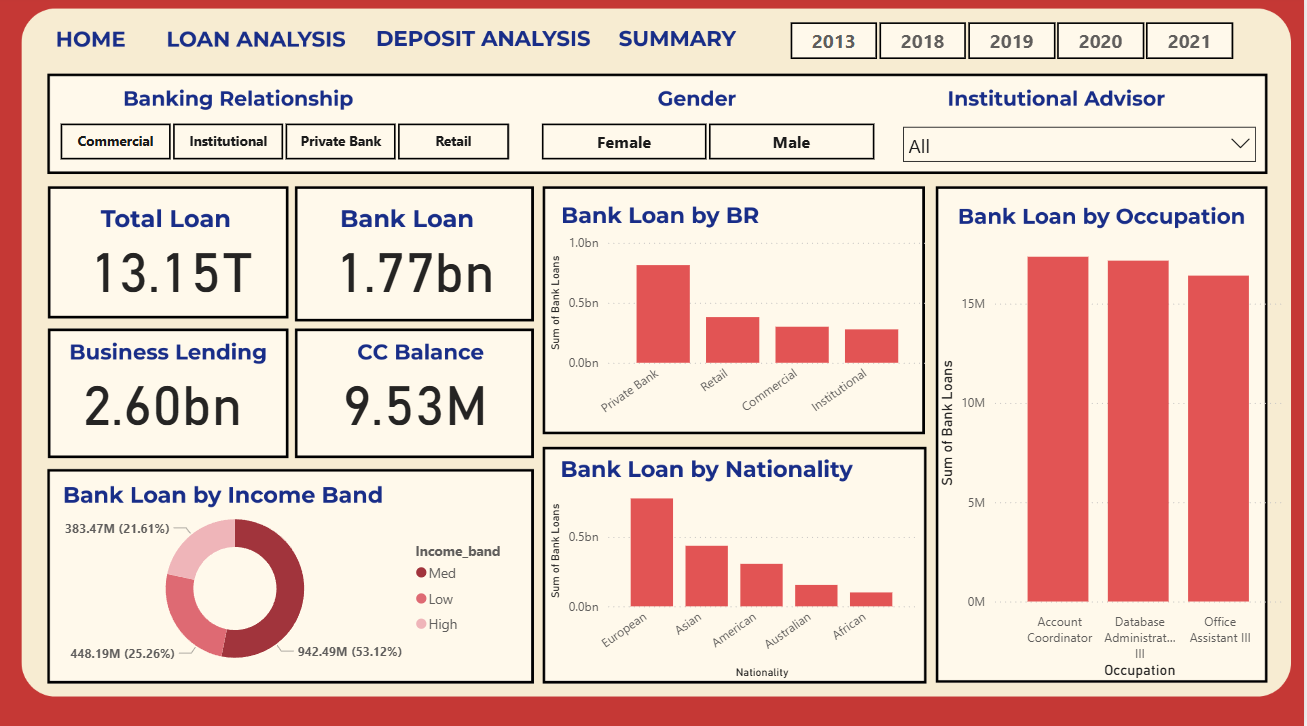

The page's visual inventory and layout, read from the dashboard file:
{"tool":"powerbi","page":{"name":"Loan Analysis","canvas":[1280,720],"ordinal":1},"visuals":[{"type":"slicer","fields":{"Values":["Banking.joining year"]},"box":[749.7,19.6,484.7,49.1],"z":0},{"type":"actionButton","box":[159.3,23.5,185.2,40.7],"z":1000},{"type":"actionButton","box":[49.4,23.5,87.7,40.7],"z":2000},{"type":"actionButton","box":[361.7,23.5,230.9,40.7],"z":3000},{"type":"card","fields":{"Values":["Sum(Banking.Bank Loans)"]},"box":[308.6,211.1,196.3,108.6],"z":4000},{"type":"card","fields":{"Values":["Sum(Banking.Credit Card Balance)"]},"box":[308.6,342,196.3,108.6],"z":5000},{"type":"card","fields":{"Values":["Sum(Banking.Business Lending)"]},"box":[61.7,342,196.3,108.6],"z":6000},{"type":"card","fields":{"Values":["Sum(Banking.total loan)"]},"box":[70.4,211.1,196.3,108.6],"z":7000},{"type":"columnChart","fields":{"Category":["Banking.BRId"],"Y":["Sum(Banking.Bank Loans)"]},"box":[534.6,229.6,381.5,198.8],"z":8000},{"type":"columnChart","fields":{"Category":["Banking.Nationality"],"Y":["Sum(Banking.Bank Loans)"]},"box":[534.6,477.8,369.1,198.8],"z":9000},{"type":"columnChart","fields":{"Category":["Banking.Occupation"],"Y":["Sum(Banking.Bank Loans)"]},"box":[916,230.9,349.4,445.7],"z":10000},{"type":"slicer","fields":{"Values":["Banking.IAId"]},"box":[876.5,118.5,366.7,49.4],"z":11000},{"type":"donutChart","fields":{"Category":["Banking.Income_band"],"Y":["Sum(Banking.Bank Loans)"]},"box":[49.4,490.1,465.4,186.4],"z":12000},{"type":"actionButton","box":[606.2,24.7,119.8,40.7],"z":13000},{"type":"slicer","fields":{"Values":["Banking.BRId"]},"box":[33.3,118.5,490.1,49.4],"z":14000},{"type":"slicer","fields":{"Values":["Banking.GenderId"]},"box":[504.9,118.5,376.5,49.4],"z":15000}]}

Visuals, with their boxes in screenshot pixels (x1, y1, x2, y2), scaled from the page's 1280x720 canvas onto the 1307x726 screenshot:
slicer - Banking.joining year: region(766, 20, 1260, 69)
actionButton: region(163, 24, 352, 65)
actionButton: region(50, 24, 140, 65)
actionButton: region(369, 24, 605, 65)
card - Sum(Banking.Bank Loans): region(315, 213, 516, 322)
card - Sum(Banking.Credit Card Balance): region(315, 345, 516, 454)
card - Sum(Banking.Business Lending): region(63, 345, 263, 454)
card - Sum(Banking.total loan): region(72, 213, 272, 322)
columnChart - Banking.BRId x Sum(Banking.Bank Loans): region(546, 232, 935, 432)
columnChart - Banking.Nationality x Sum(Banking.Bank Loans): region(546, 482, 923, 682)
columnChart - Banking.Occupation x Sum(Banking.Bank Loans): region(935, 233, 1292, 682)
slicer - Banking.IAId: region(895, 119, 1269, 169)
donutChart - Banking.Income_band x Sum(Banking.Bank Loans): region(50, 494, 526, 682)
actionButton: region(619, 25, 741, 66)
slicer - Banking.BRId: region(34, 119, 534, 169)
slicer - Banking.GenderId: region(516, 119, 900, 169)
